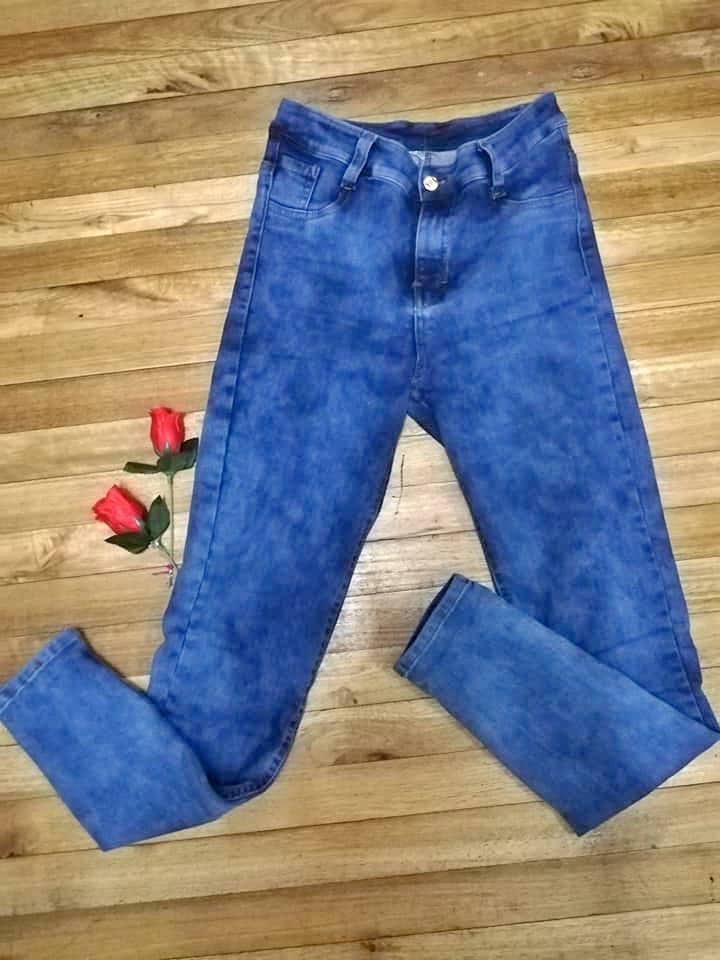Jeans: (0, 80, 720, 862)
